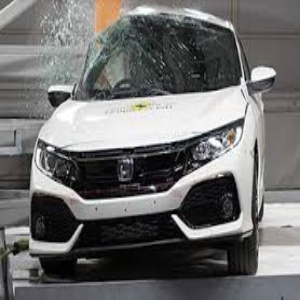front_windshield_glass: (82, 19, 223, 100)
